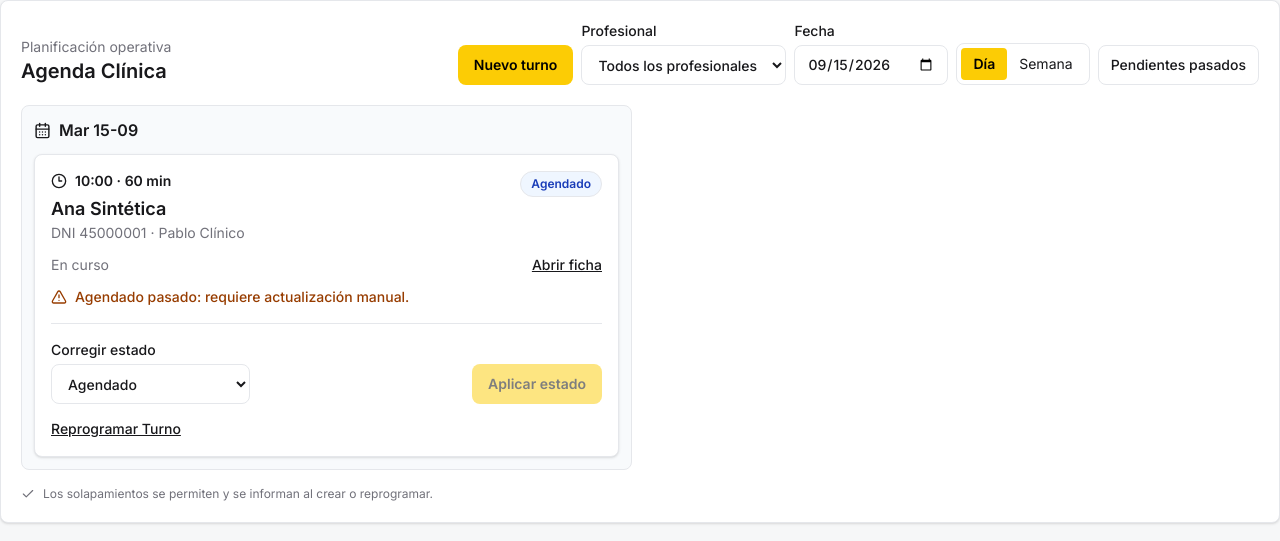
Test: sends and clears the professional filter with canManage=true
expect the link "Abrir ficha" is shown: met, box [532,255,602,275]
Select "Pablo Clínico" in the dropdown labelled "Profesional" at (684, 65), box [581,45,786,85]
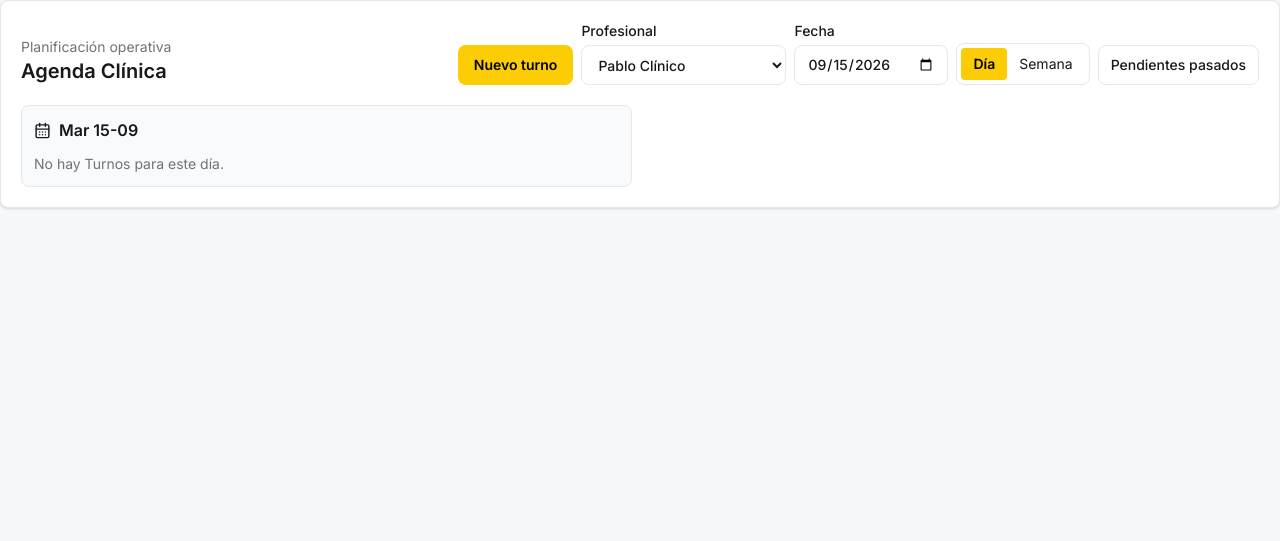
expect the link "Abrir ficha" is gone: met
Type "2026-09-16" into the date field named "Fecha de agenda".
click(871, 65); type("2026-09-16")  # box [794,45,948,85]
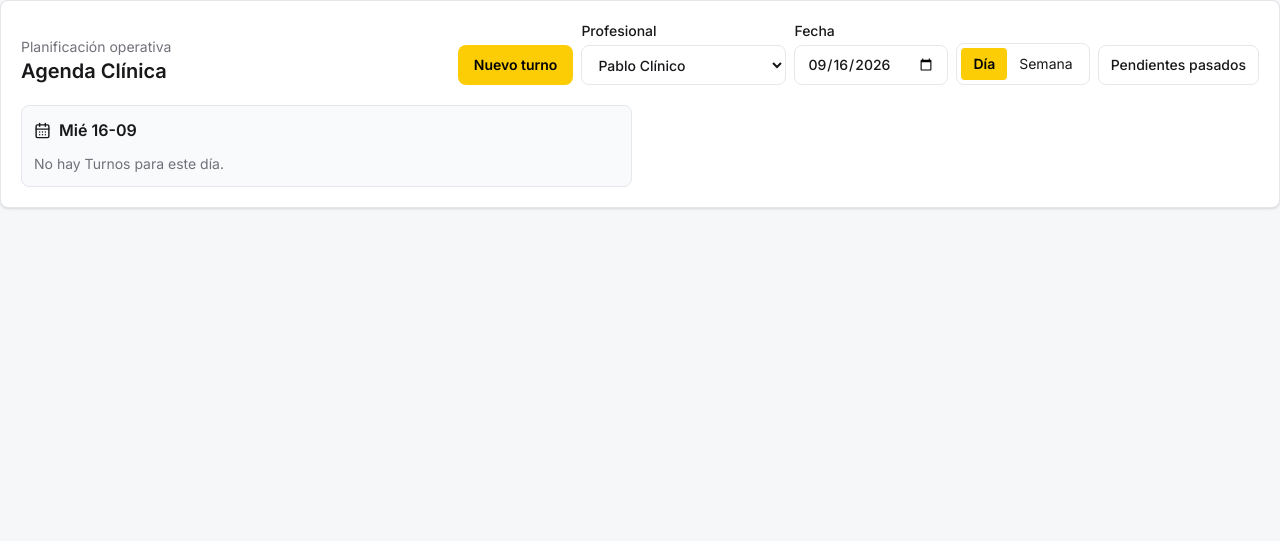
Click the button "Semana".
click(1046, 64)  # box [1007,48,1085,80]
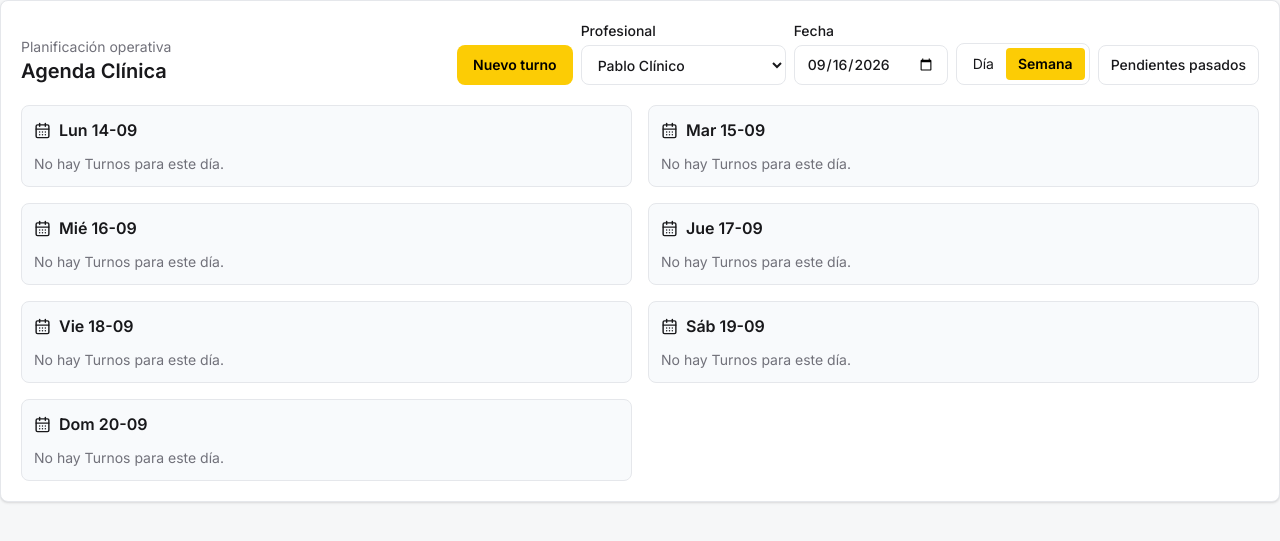
expect the number of elements named "Turnos del" is 7: met
Click the button "Día".
click(983, 64)  # box [961,48,1006,80]
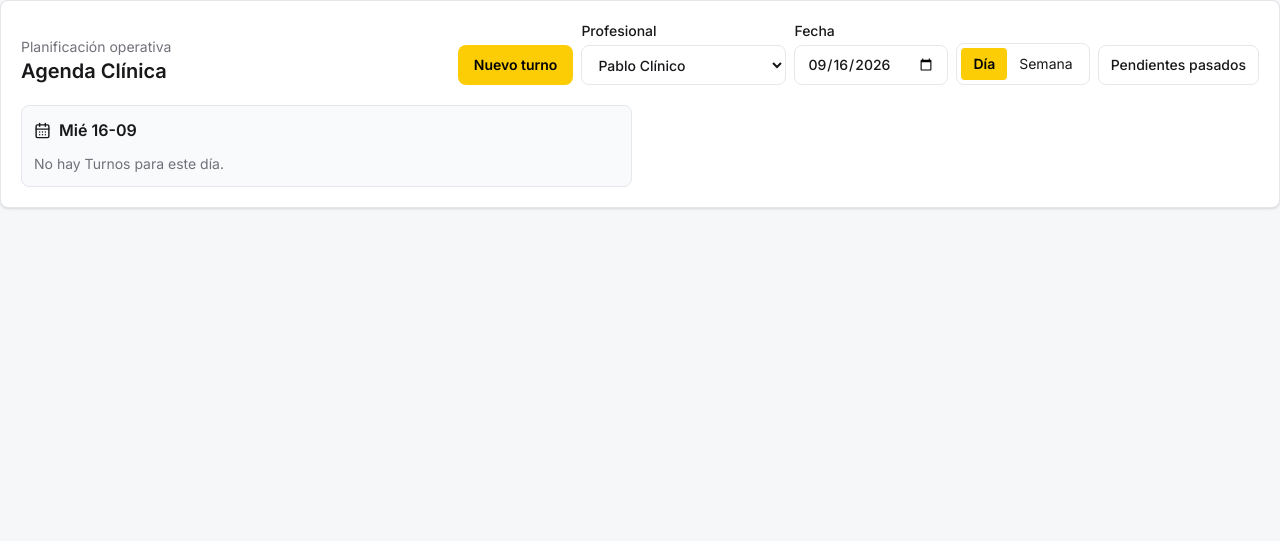
Click the button "Pendientes pasados".
click(1178, 65)  # box [1098,45,1259,85]
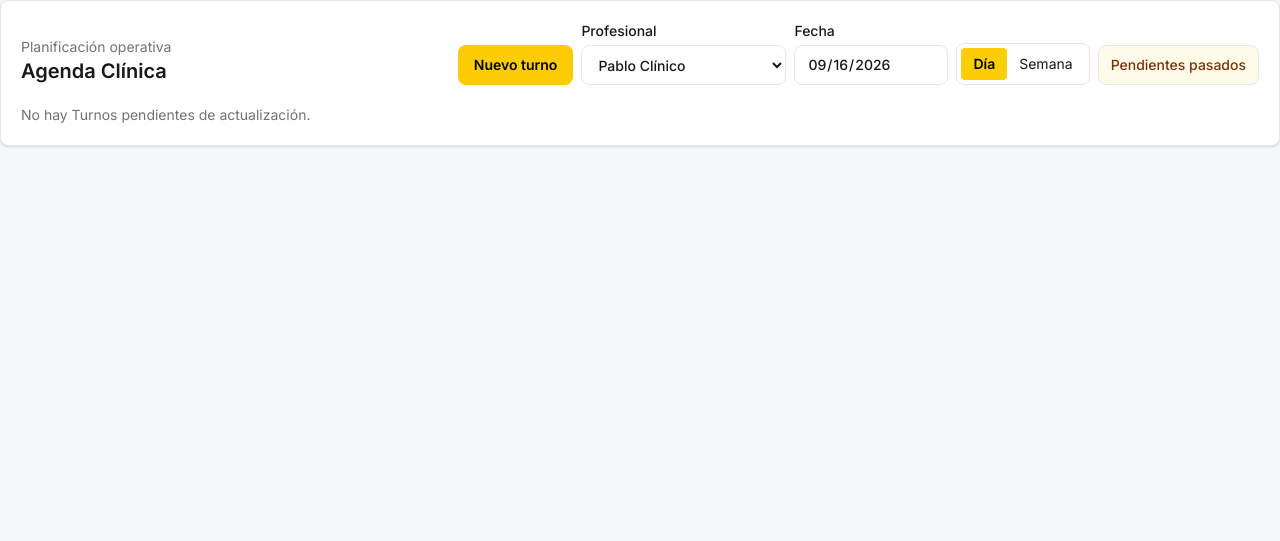
Select "Todos los profesionales" in the dropdown labelled "Profesional" at (684, 65), box [581,45,786,85]
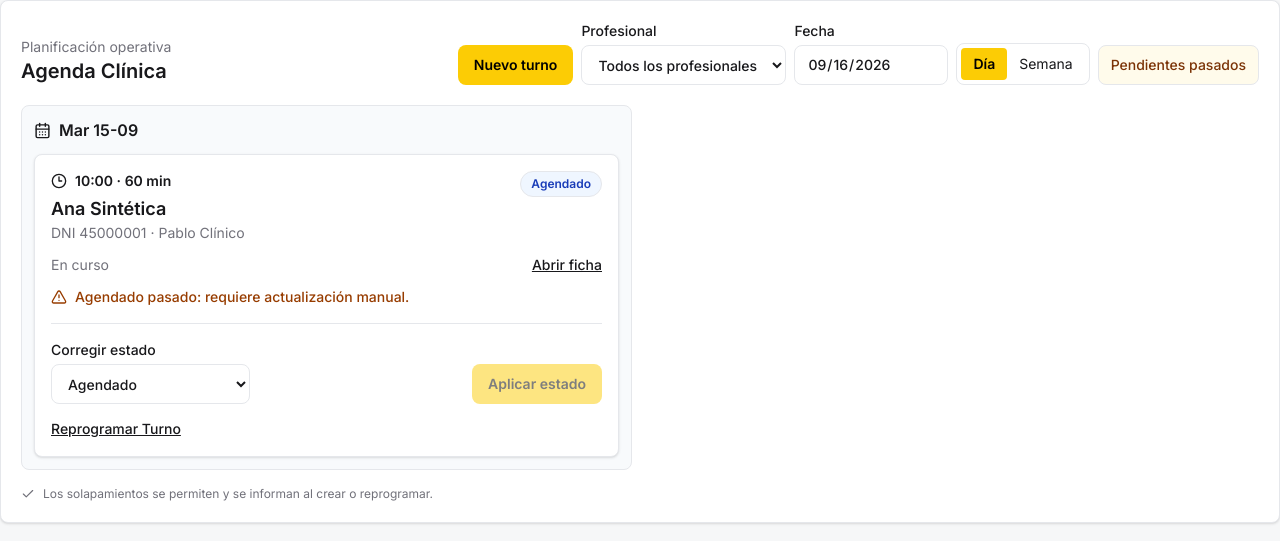
expect the link "Abrir ficha" is shown: met, box [532,255,602,275]
